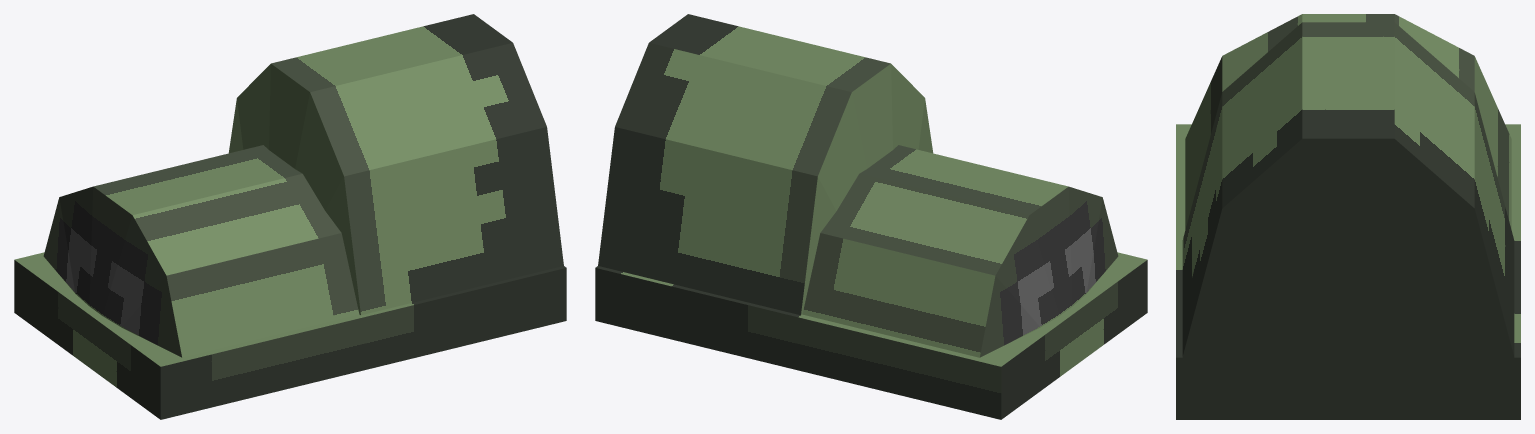
File: boiler.fbx
The picture shows the model from 3 angles, left to right: view 1: azimuth 30°, elevation 25°; view 2: azimuth 150°, elevation 25°; view 3: azimuth 270°, elevation 25°; orthographic projection. The views are drawn at different scales.
Visible parts, largest first — view 1: cuboid; view 2: cuboid; view 3: cuboid.
Boxes of the visible parts, box(x1,y1,x2,y2) form: cuboid: box(14, 14, 566, 419); cuboid: box(595, 14, 1147, 419); cuboid: box(1176, 14, 1520, 419).
Size of the model in its own units: 100 by 56.25 by 62.5.
Materials: 1 (1 with a texture image).
